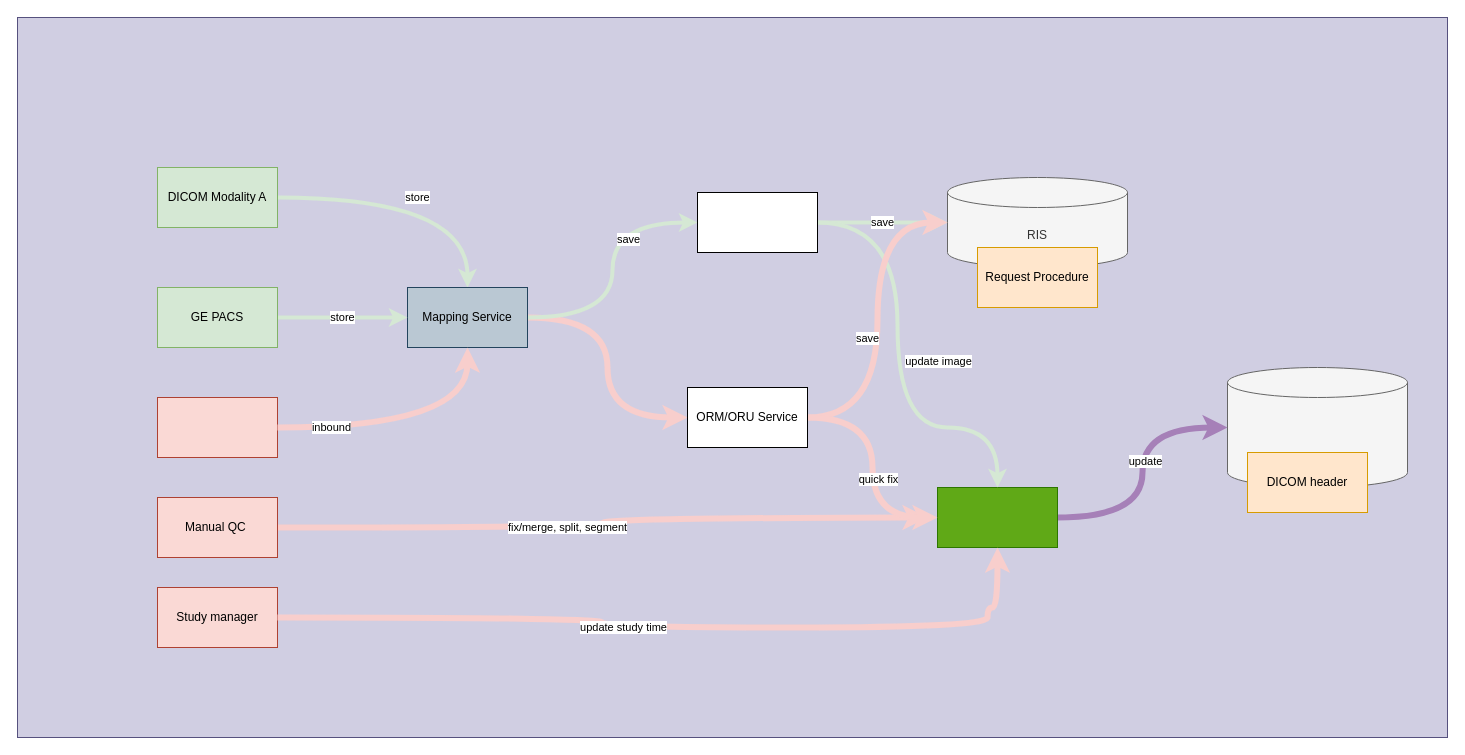
Some shapes in this 1465 by 755 pixel diagram are drawn without their labels. Here are the shapes that lost their labels. From the top down, the box of each, then its label:
(696, 192, 818, 252): StoreService
(156, 396, 278, 458): HL7 ORM / ORU inbound
(1226, 366, 1408, 488): PACS
(936, 486, 1058, 548): DICOM Header Update
